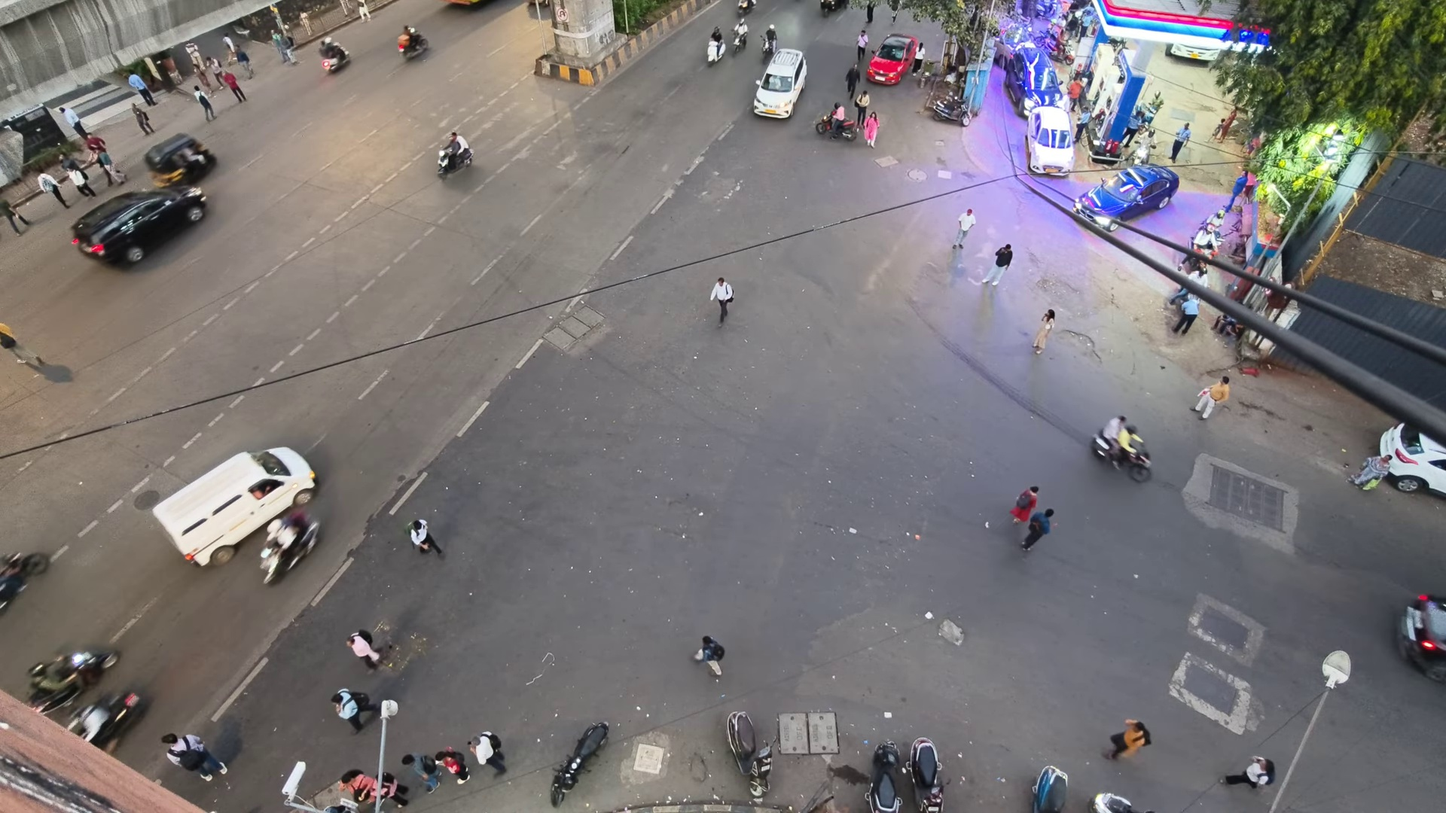walking: (161, 733, 226, 781), (331, 690, 379, 732), (0, 323, 44, 367), (1105, 719, 1150, 759), (1220, 757, 1274, 788), (468, 732, 506, 775), (1192, 376, 1229, 419), (401, 754, 441, 793), (1348, 455, 1392, 489), (1021, 508, 1054, 551), (409, 519, 444, 557), (338, 769, 377, 803), (981, 244, 1013, 285), (347, 630, 381, 668), (435, 747, 468, 784), (694, 635, 724, 675), (95, 149, 126, 186), (37, 172, 68, 208), (710, 277, 733, 324), (1172, 294, 1199, 334), (1010, 486, 1039, 523), (0, 198, 30, 233), (378, 772, 408, 806), (1032, 309, 1054, 354), (58, 106, 88, 138), (1225, 170, 1249, 209), (67, 166, 97, 196), (952, 209, 975, 248), (128, 72, 155, 105), (1121, 108, 1142, 148), (221, 71, 246, 102), (1171, 123, 1191, 161), (194, 86, 215, 120), (131, 103, 154, 134), (1074, 105, 1091, 142), (854, 89, 870, 125), (236, 50, 255, 79), (863, 113, 879, 147), (273, 32, 291, 62), (207, 58, 224, 89), (1068, 78, 1083, 110), (846, 63, 860, 97), (911, 42, 924, 74), (856, 29, 868, 61), (223, 35, 236, 63), (1191, 264, 1207, 285), (1211, 118, 1225, 139), (358, 0, 371, 20), (865, 0, 874, 23)
